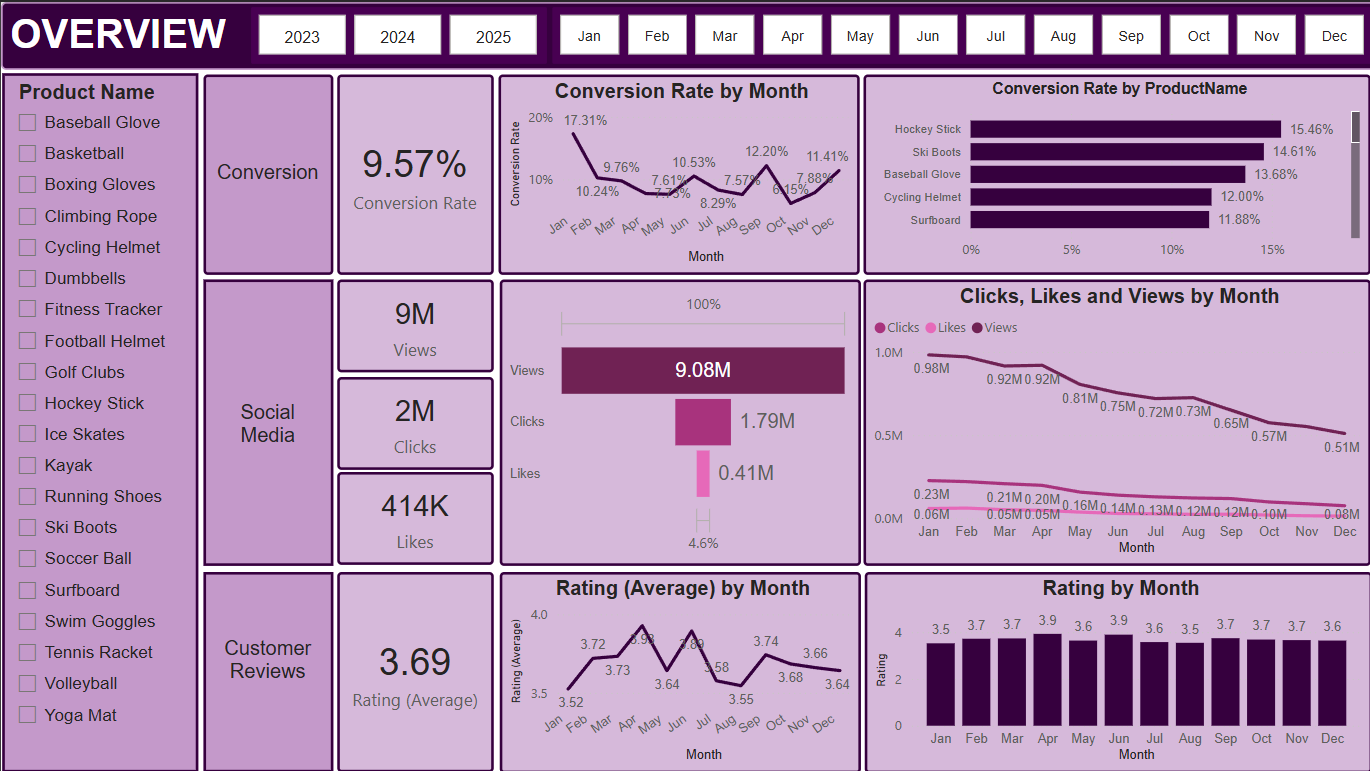

The page's visual inventory and layout, read from the dashboard file:
{"tool":"powerbi","page":{"name":"OVERVIEW","canvas":[1280,720],"ordinal":0},"visuals":[{"type":"textbox","box":[0,0,1280,62.9],"z":0},{"type":"textbox","box":[188,67.2,120.8,186.6],"z":1000},{"type":"textbox","box":[188,258,120.8,266.2],"z":2000},{"type":"textbox","box":[188,529.7,120.8,186.6],"z":3000},{"type":"card","fields":{"Values":["_calculations.Conversion Rate"]},"box":[312.9,67.2,145.5,186.6],"z":4000},{"type":"slicer","fields":{"Values":["dim_products.ProductName"]},"box":[1.4,65.9,182.5,650.4],"z":5000},{"type":"card","fields":{"Values":["_calculations.Likes"]},"box":[312.9,437.7,145.5,86.4],"z":6000},{"type":"card","fields":{"Values":["_calculations.Rating (Average)"]},"box":[312.9,529.7,145.5,186.6],"z":7000},{"type":"card","fields":{"Values":["_calculations.Clicks"]},"box":[312.9,348.5,145.5,86.4],"z":8000},{"type":"card","fields":{"Values":["_calculations.Views"]},"box":[312.9,258,145.5,86.4],"z":9000},{"type":"advancedSlicerVisual","fields":{"Values":["Calendar.Year"]},"box":[230.5,2.7,279.9,57.6],"z":10000},{"type":"advancedSlicerVisual","fields":{"Values":["Calendar.MonthNameShort"]},"box":[510.5,2.7,769.8,57.6],"z":11000},{"type":"lineChart","fields":{"Y":["_calculations.Conversion Rate"],"Category":["Calendar.MonthNameShort"]},"box":[462.4,67.2,336.2,186.6],"z":12000},{"type":"clusteredBarChart","fields":{"Category":["dim_products.ProductName"],"Y":["_calculations.Conversion Rate"]},"box":[802.7,67.2,472,186.6],"z":13000},{"type":"lineChart","fields":{"Category":["Calendar.MonthNameShort"],"Y":["_calculations.Clicks","_calculations.Likes","_calculations.Views"]},"box":[802.7,258,472,266.2],"z":14000},{"type":"funnel","fields":{"Y":["_calculations.Views","_calculations.Clicks","_calculations.Likes"]},"box":[463.8,258,336.2,266.2],"z":15000},{"type":"lineChart","fields":{"Y":["_calculations.Rating (Average)"],"Category":["Calendar.MonthNameShort"]},"box":[464,530,336,187],"z":16000},{"type":"clusteredColumnChart","fields":{"Y":["_calculations.Rating (Average)"],"Category":["Calendar.MonthNameShort"]},"box":[803,530,472,187],"z":17000}]}

Visuals, with their boxes in screenshot pixels (x1, y1, x2, y2), scaled from the page's 1280x720 canvas onto the 1370x771 screenshot:
textbox: {"x1": 0, "y1": 0, "x2": 1369, "y2": 67}
textbox: {"x1": 201, "y1": 72, "x2": 331, "y2": 272}
textbox: {"x1": 201, "y1": 276, "x2": 331, "y2": 561}
textbox: {"x1": 201, "y1": 567, "x2": 331, "y2": 767}
card - _calculations.Conversion Rate: {"x1": 335, "y1": 72, "x2": 491, "y2": 272}
slicer - dim_products.ProductName: {"x1": 1, "y1": 71, "x2": 197, "y2": 767}
card - _calculations.Likes: {"x1": 335, "y1": 469, "x2": 491, "y2": 561}
card - _calculations.Rating (Average): {"x1": 335, "y1": 567, "x2": 491, "y2": 767}
card - _calculations.Clicks: {"x1": 335, "y1": 373, "x2": 491, "y2": 466}
card - _calculations.Views: {"x1": 335, "y1": 276, "x2": 491, "y2": 369}
advancedSlicerVisual - Calendar.Year: {"x1": 247, "y1": 3, "x2": 546, "y2": 65}
advancedSlicerVisual - Calendar.MonthNameShort: {"x1": 546, "y1": 3, "x2": 1369, "y2": 65}
lineChart - _calculations.Conversion Rate x Calendar.MonthNameShort: {"x1": 495, "y1": 72, "x2": 855, "y2": 272}
clusteredBarChart - dim_products.ProductName x _calculations.Conversion Rate: {"x1": 859, "y1": 72, "x2": 1364, "y2": 272}
lineChart - Calendar.MonthNameShort x _calculations.Clicks: {"x1": 859, "y1": 276, "x2": 1364, "y2": 561}
funnel - _calculations.Views x _calculations.Clicks: {"x1": 496, "y1": 276, "x2": 856, "y2": 561}
lineChart - _calculations.Rating (Average) x Calendar.MonthNameShort: {"x1": 497, "y1": 568, "x2": 856, "y2": 768}
clusteredColumnChart - _calculations.Rating (Average) x Calendar.MonthNameShort: {"x1": 859, "y1": 568, "x2": 1365, "y2": 768}
